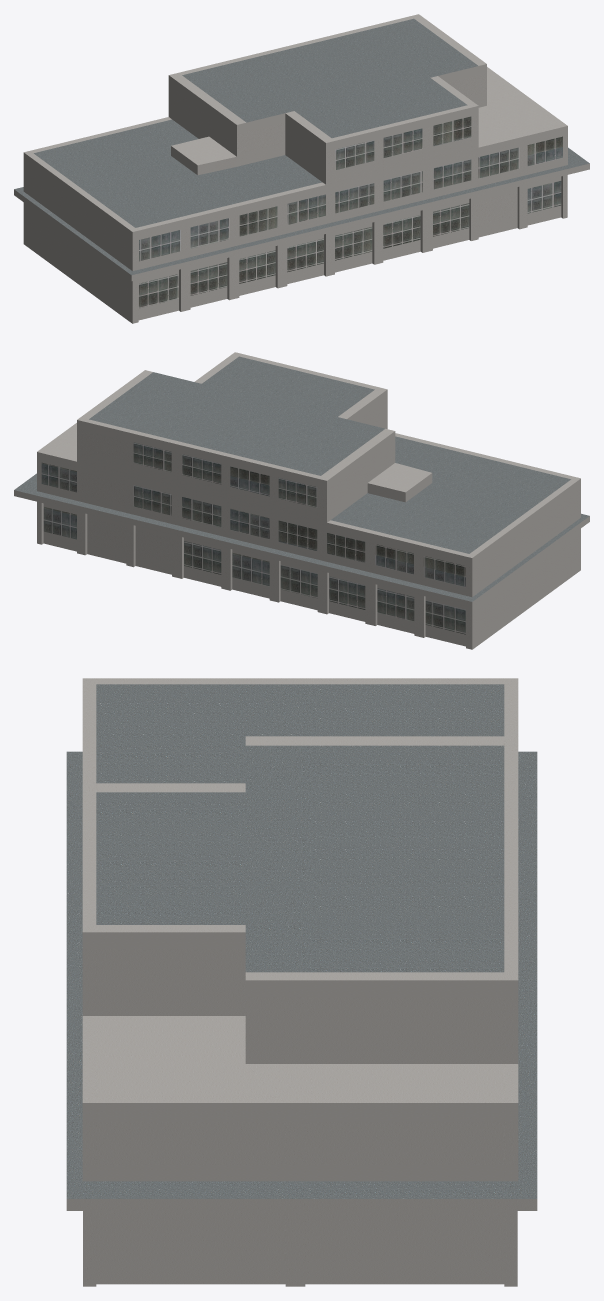
File: 8gokan.fbx
The picture shows the model from 3 angles, top to bottom: view 1: azimuth 30°, elevation 25°; view 2: azimuth 150°, elevation 25°; view 3: azimuth 270°, elevation 25°; orthographic projection. The views are drawn at different scales.
Visible parts, largest first — view 1: Cube; view 2: Cube; view 3: Cube.
Boxes of the visible parts, <box> form: Cube: <box>14,14,589,323</box>; Cube: <box>14,352,589,649</box>; Cube: <box>66,678,537,1286</box>.
Bounding box in the file's own units: 2672 × 744 × 1188.
